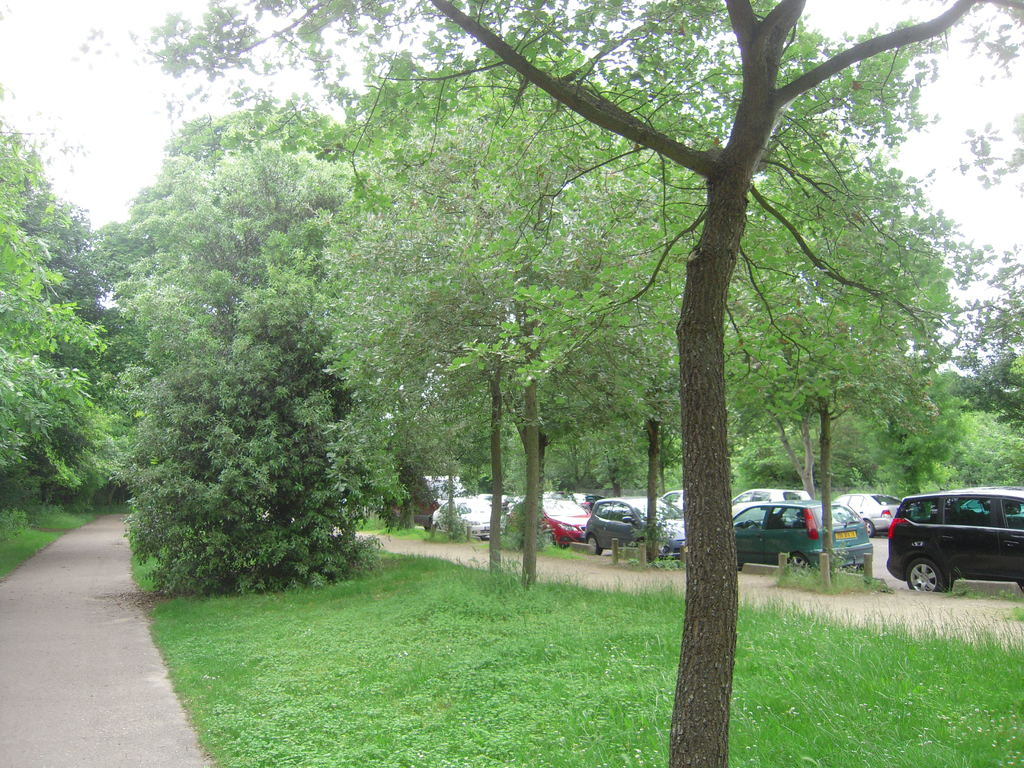mobil: (882, 489, 1024, 599), (732, 500, 870, 566)
